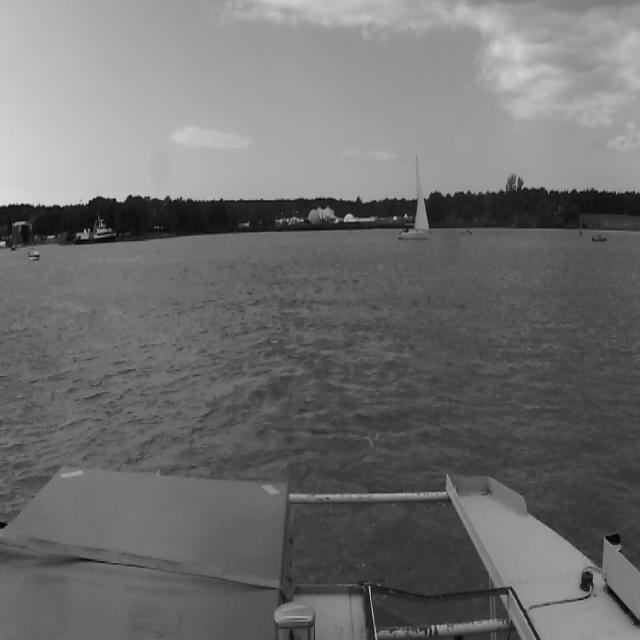buoy: (576, 216, 582, 237)
ship: (399, 157, 431, 239), (74, 216, 116, 244), (592, 235, 608, 242), (460, 227, 474, 234), (28, 252, 40, 260)
